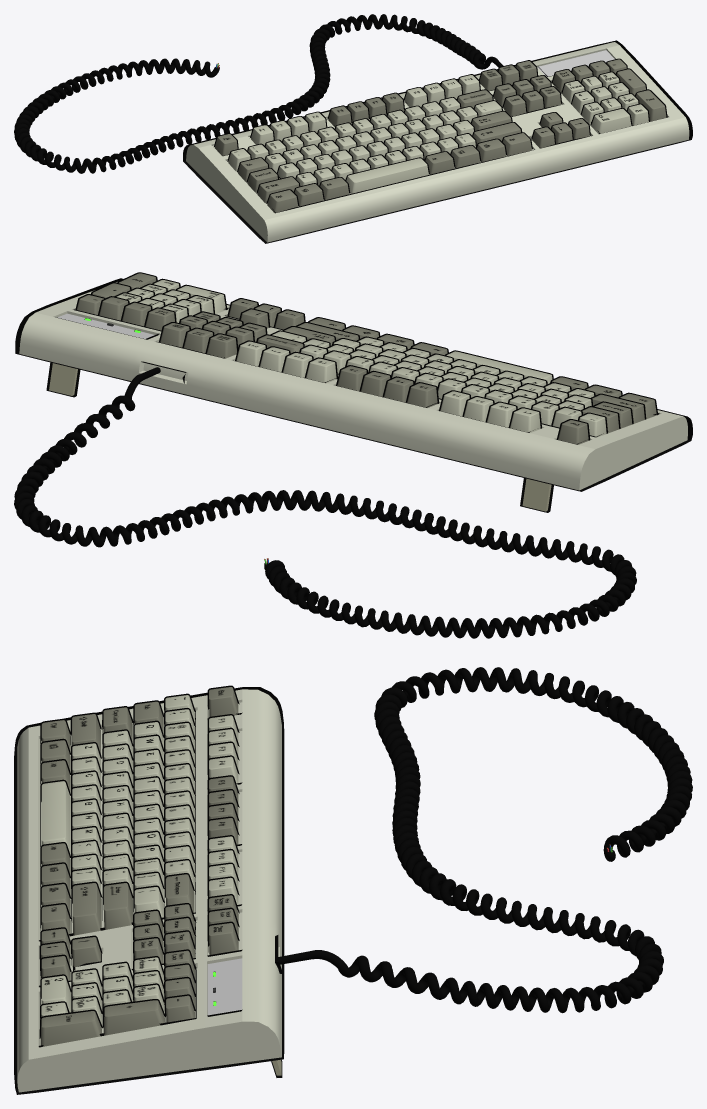
Rendered from Sketchfab_2022_10_01_12_58_50.fbx.
The picture shows the model from 3 angles, top to bottom: view 1: azimuth 30°, elevation 25°; view 2: azimuth 150°, elevation 25°; view 3: azimuth 270°, elevation 25°; orthographic projection. The views are drawn at different scales.
Parts seen in each view (by area): view 1: teclas, teclado, cable; view 2: teclado, teclas, cable, Cube.001; view 3: teclas, teclado, cable.
Part boxes in pixels (x1,y1,x2,y2): teclas: (214, 58, 667, 212); teclado: (183, 40, 692, 243); cable: (14, 14, 503, 173); teclado: (15, 278, 692, 491); teclas: (75, 272, 658, 444); cable: (14, 367, 636, 638); Cube.001: (46, 362, 553, 512); teclas: (39, 685, 239, 1046); teclado: (14, 687, 284, 1094); cable: (278, 667, 692, 1013).
Size of the model in its own units: 19974 by 2024 by 13963.
